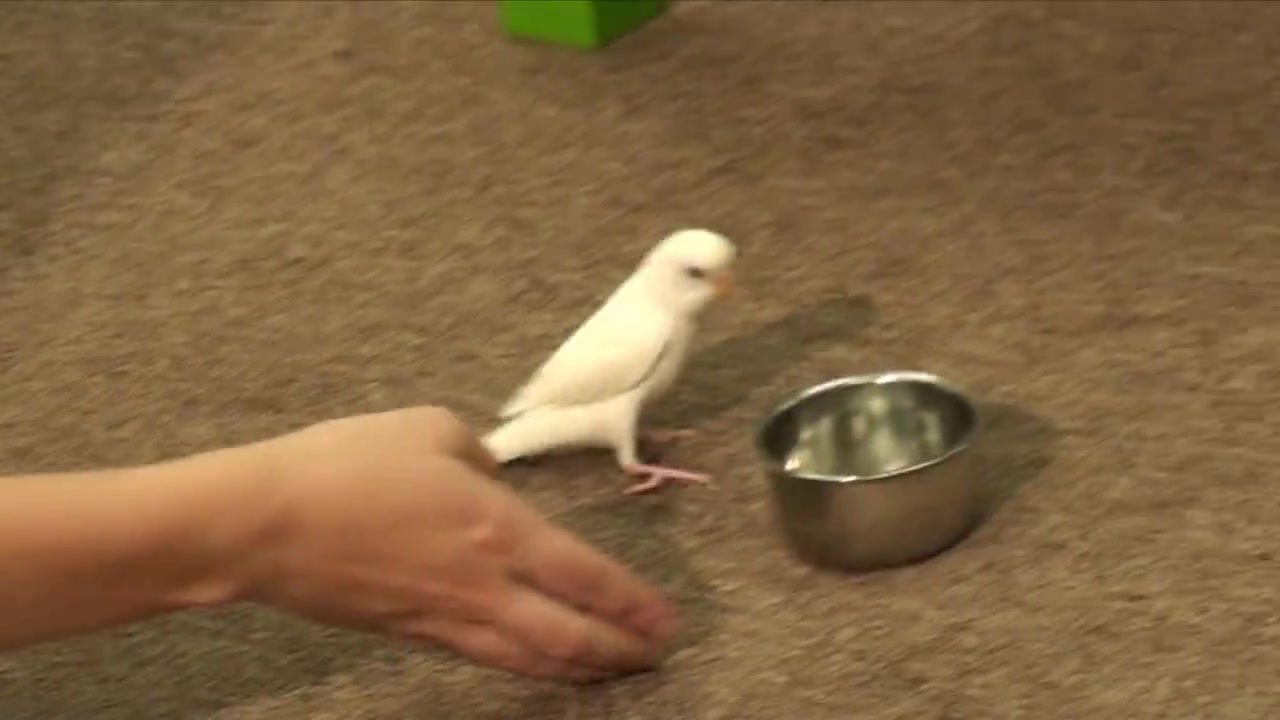bird: (481, 231, 740, 496)
